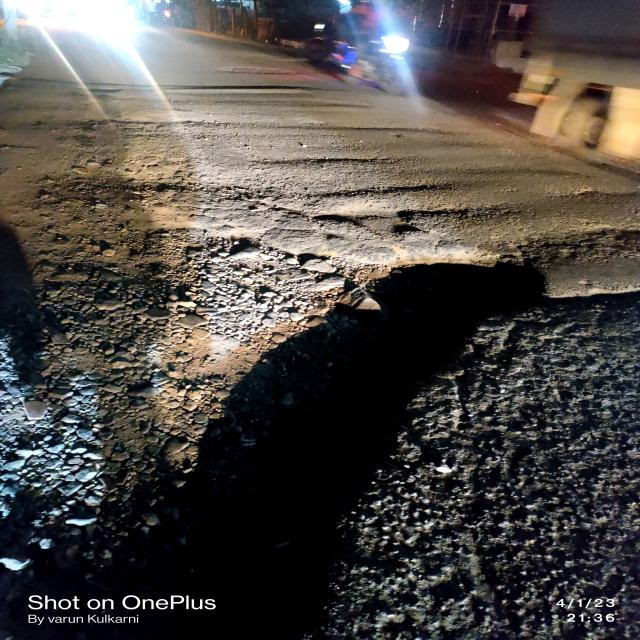potholes: (106, 256, 538, 634)
